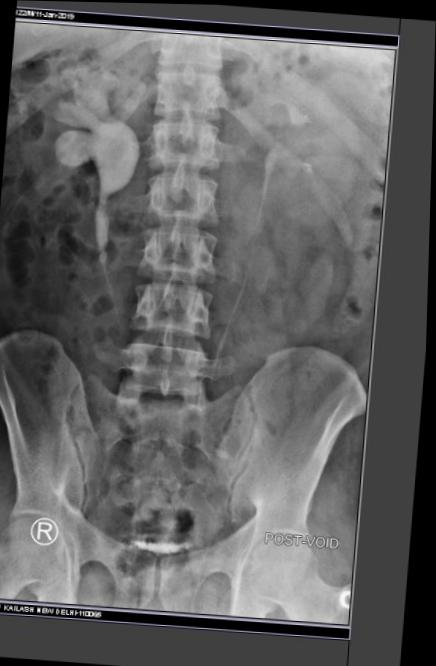vertebrae: (173, 109, 261, 174)
